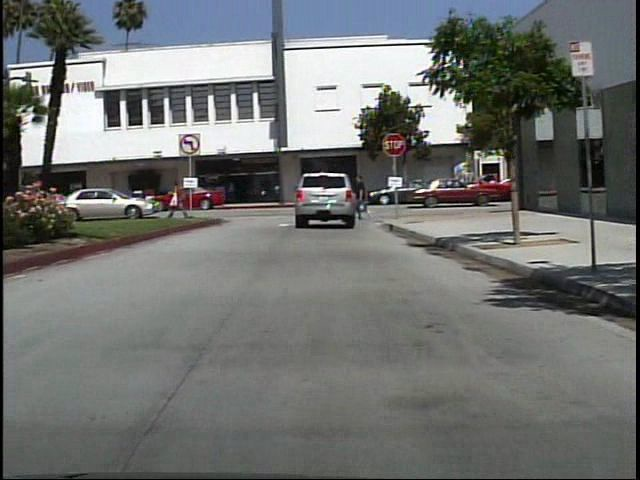person: (163, 175, 192, 220), (357, 171, 376, 224), (225, 177, 241, 205)
